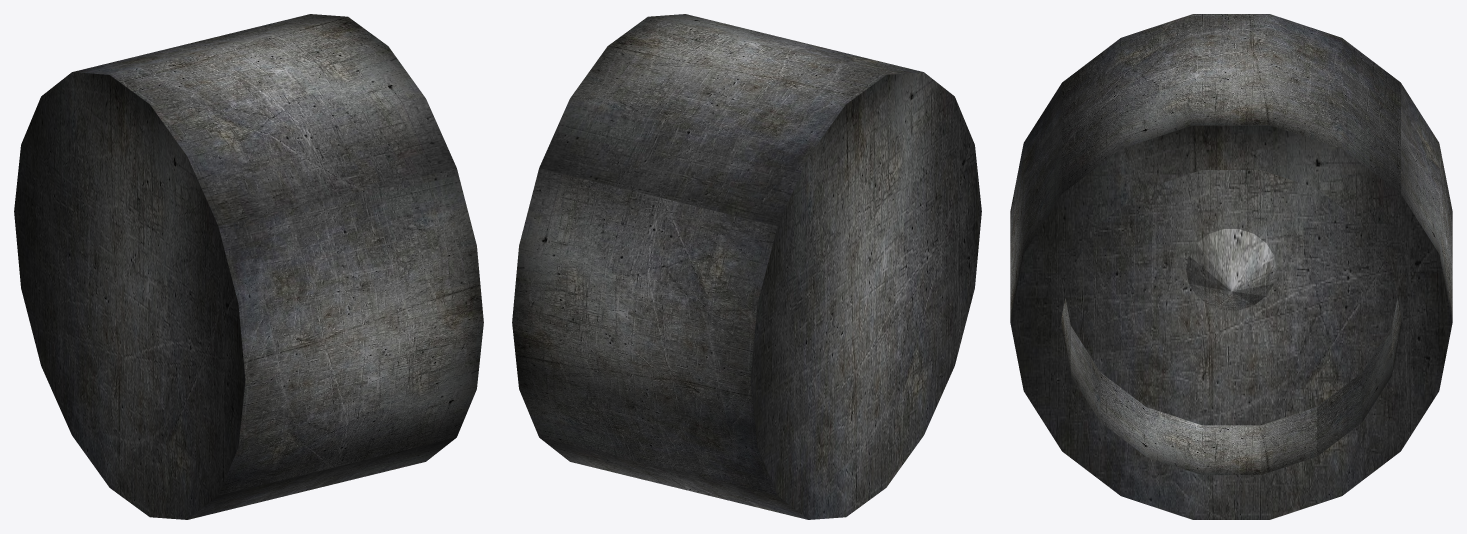
Rendered from ПравоеКолесо6.FBX.
The picture shows the model from 3 angles, left to right: view 1: azimuth 30°, elevation 25°; view 2: azimuth 150°, elevation 25°; view 3: azimuth 270°, elevation 25°; orthographic projection. The views are drawn at different scales.
Visible parts, largest first — view 1: ПравоеКолесо6; view 2: ПравоеКолесо6; view 3: ПравоеКолесо6.
Boxes of the visible parts, x1=… form: ПравоеКолесо6: x1=14, y1=14, x2=483, y2=519; ПравоеКолесо6: x1=512, y1=14, x2=981, y2=519; ПравоеКолесо6: x1=1010, y1=14, x2=1452, y2=519.
Size of the model in its own units: 0.8187 by 1.35 by 1.38.
